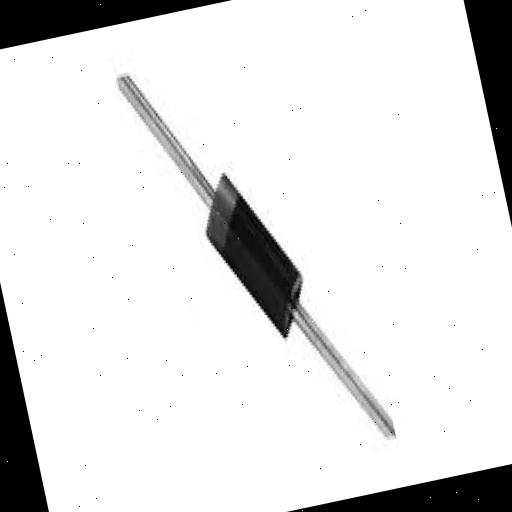DIODE: (112, 30, 396, 480)
